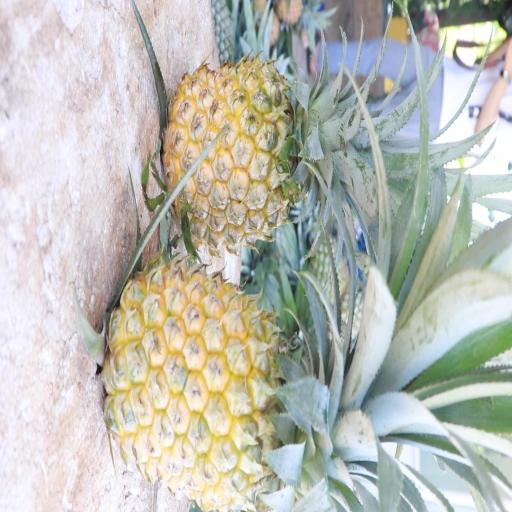Pineapple - v8 v1: (96, 257, 388, 507), (158, 50, 362, 262), (216, 154, 226, 158), (223, 112, 232, 112)
